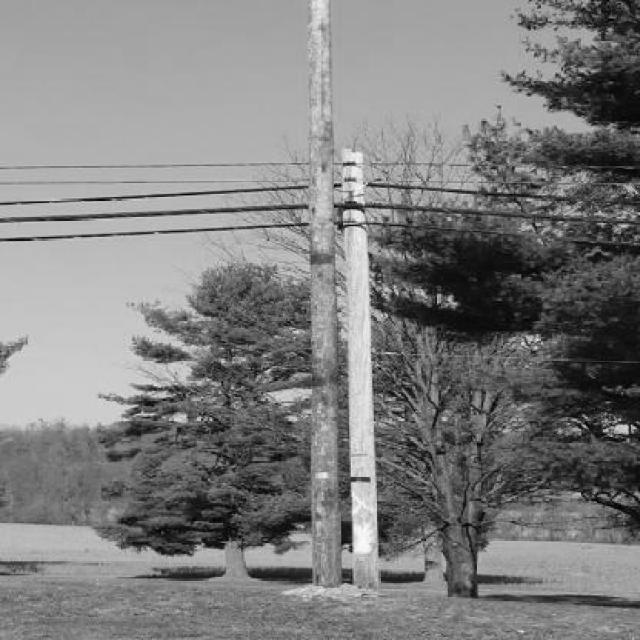Pole: (308, 0, 341, 586), (343, 148, 378, 590)
